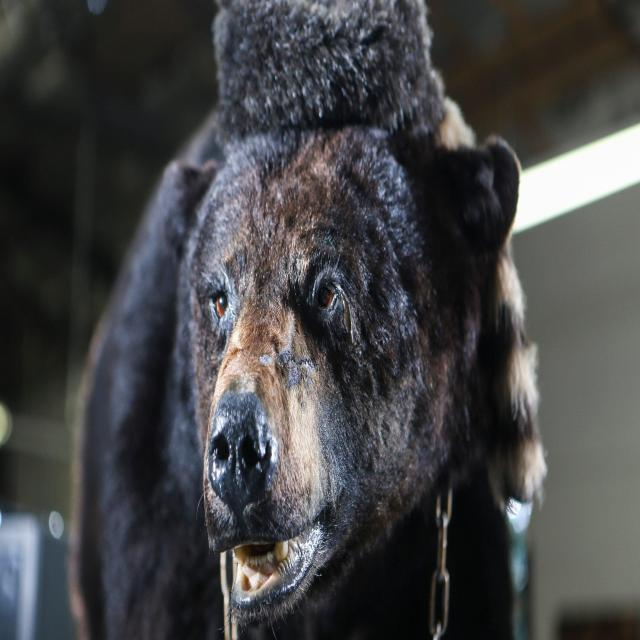Bear: (67, 0, 548, 640)
